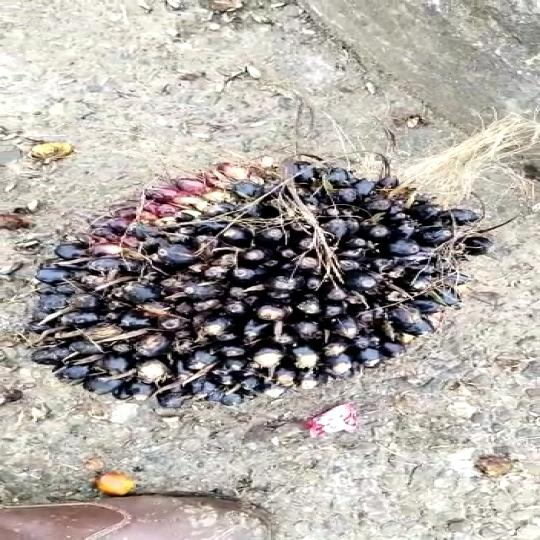mentah: (23, 139, 494, 401)
